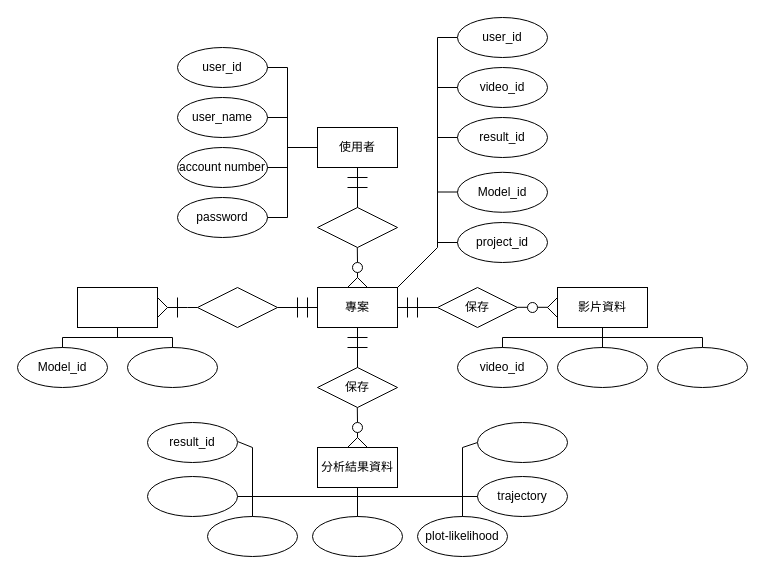
This 765x574 diagram has some shape labels left out. The shapes that lost their labels are listed below. From the top down, each one's centre as x and y in pixels, then its label:
(x=357, y=227): 研究
(x=117, y=307): AI模型
(x=237, y=307): 設置
(x=172, y=367): Model
(x=602, y=367): video_mane
(x=702, y=367): video
(x=522, y=442): photo
(x=192, y=496): result_name
(x=252, y=536): hist
(x=357, y=536): plot
